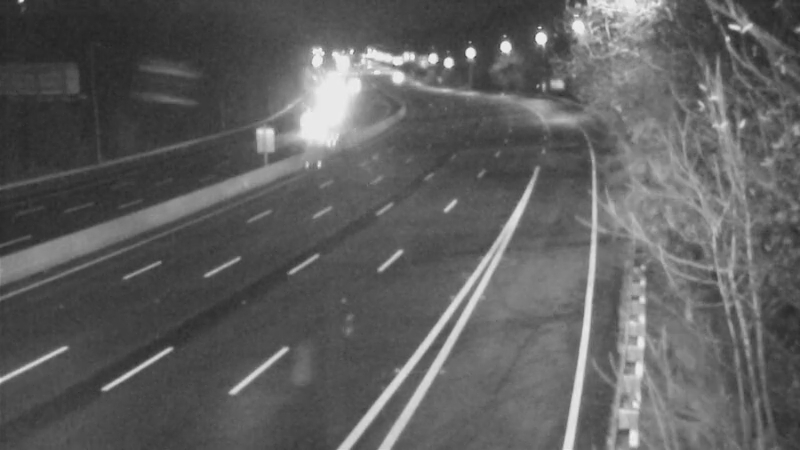vehicle: (367, 53, 417, 103), (299, 104, 349, 154)
